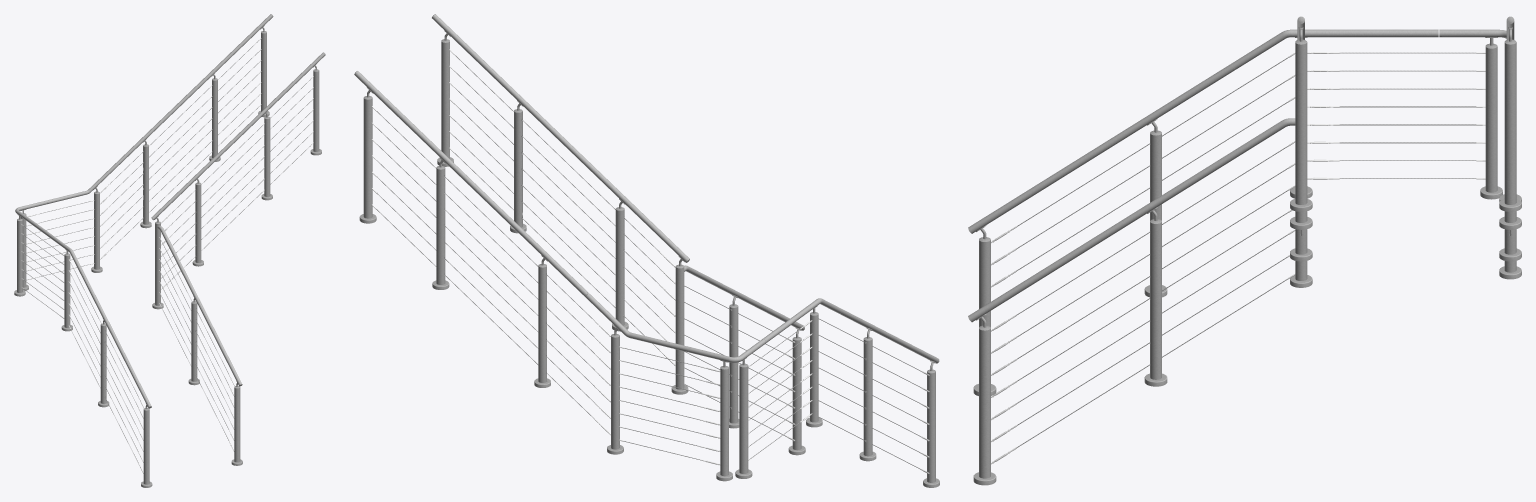
Rendered from L-Shaped_Railing_Koto_Round.gltf.
3 views of the same model, side by side, from view 1: azimuth 30°, elevation 25°; view 2: azimuth 150°, elevation 25°; view 3: azimuth 270°, elevation 25° (orthographic). The views are drawn at different scales.
Visible parts, largest first — view 1: Nested_Rail LS Material [8461322], Nested_Rail LS Material [8719226], Nested_Bend Bend [8719267]001, Nested_Rail LS Material [8719249], Custom - Koto Round Post Material LS Material [8467853], Custom - Koto Round Post Material LS Material [8579826]002, Custom - Koto Round Post Material LS Material [8467835]002, Custom - Koto Round Post Material LS Material [8579826]003, Custom - Koto Round Post Material LS Material [8467835]001, Custom - Koto Round Post Material LS Material [8581377], Custom - Koto Round Post Material LS Material [8467844], Custom - Koto Round Post Material LS Material [8581380]006 (+7 smaller); view 2: Nested_Rail LS Material [8461322], Nested_Rail LS Material [8719226], Custom - Koto Round Post Material LS Material [8467853]001, Custom - Koto Round Post Material LS Material [8467990], Custom - Koto Round Post Material LS Material [8467835]002, Custom - Koto Round Post Material LS Material [8579826]001, Custom - Koto Round Post Material LS Material [8579826]003, Custom - Koto Round Post Material LS Material [8467835]001, Custom - Koto Round Post Material LS Material [8580439]008, Custom - Koto Round Post Material LS Material [8467844], Custom - Koto Round Post Material LS Material [8579826], Custom - Koto Round Post Material LS Material [8579826]002 (+8 smaller); view 3: Nested_Bend Bend [8719267]001, Nested_Rail LS Material [8719249], Custom - Koto Round Post Material LS Material [8467853], Custom - Koto Round Post Material LS Material [8467853]001, Custom - Koto Round Post Material LS Material [8580439]008, Custom - Koto Round Post Material LS Material [8467835]001, Nested_Bend Bend [8719267], Custom - Koto Round Post Material LS Material [8467844], Custom - Koto Round Post Material LS Material [8581377], Custom - Koto Round Post Material LS Material [8467835]002, Nested_Bend Bend_1.
Part boxes in pixels (bbox=[...]): Nested_Rail LS Material [8461322]: bbox=[151, 52, 325, 219]; Nested_Rail LS Material [8719226]: bbox=[115, 14, 272, 165]; Nested_Bend Bend [8719267]001: bbox=[157, 225, 241, 385]; Nested_Rail LS Material [8719249]: bbox=[83, 276, 151, 407]; Custom - Koto Round Post Material LS Material [8467853]: bbox=[313, 71, 319, 151]; Custom - Koto Round Post Material LS Material [8579826]002: bbox=[264, 118, 270, 196]; Custom - Koto Round Post Material LS Material [8467835]002: bbox=[100, 325, 106, 403]; Custom - Koto Round Post Material LS Material [8579826]003: bbox=[195, 184, 201, 262]; Custom - Koto Round Post Material LS Material [8467835]001: bbox=[191, 303, 197, 381]; Custom - Koto Round Post Material LS Material [8581377]: bbox=[143, 410, 149, 484]; Custom - Koto Round Post Material LS Material [8467844]: bbox=[234, 388, 240, 462]; Custom - Koto Round Post Material LS Material [8581380]006: bbox=[64, 255, 70, 327]; Nested_Rail LS Material [8461322]: bbox=[432, 14, 689, 262]; Nested_Rail LS Material [8719226]: bbox=[354, 71, 587, 295]; Custom - Koto Round Post Material LS Material [8467853]001: bbox=[363, 98, 372, 218]; Custom - Koto Round Post Material LS Material [8467990]: bbox=[675, 267, 684, 389]; Custom - Koto Round Post Material LS Material [8467835]002: bbox=[863, 339, 872, 456]; Custom - Koto Round Post Material LS Material [8579826]001: bbox=[436, 168, 445, 284]; Custom - Koto Round Post Material LS Material [8579826]003: bbox=[615, 210, 624, 325]; Custom - Koto Round Post Material LS Material [8467835]001: bbox=[729, 307, 738, 423]; Custom - Koto Round Post Material LS Material [8580439]008: bbox=[739, 366, 748, 473]; Custom - Koto Round Post Material LS Material [8467844]: bbox=[792, 339, 801, 450]; Custom - Koto Round Post Material LS Material [8579826]: bbox=[538, 267, 546, 382]; Custom - Koto Round Post Material LS Material [8579826]002: bbox=[514, 111, 522, 227]; Nested_Bend Bend [8719267]001: bbox=[968, 118, 1295, 321]; Nested_Rail LS Material [8719249]: bbox=[968, 64, 1234, 233]; Custom - Koto Round Post Material LS Material [8467853]: bbox=[1295, 43, 1307, 204]; Custom - Koto Round Post Material LS Material [8467853]001: bbox=[1504, 43, 1516, 204]; Custom - Koto Round Post Material LS Material [8580439]008: bbox=[1485, 47, 1497, 192]; Custom - Koto Round Post Material LS Material [8467835]001: bbox=[1150, 222, 1161, 379]; Nested_Bend Bend [8719267]: bbox=[1232, 29, 1437, 69]; Custom - Koto Round Post Material LS Material [8467844]: bbox=[979, 329, 990, 478]; Custom - Koto Round Post Material LS Material [8581377]: bbox=[979, 240, 990, 327]; Custom - Koto Round Post Material LS Material [8467835]002: bbox=[1150, 134, 1161, 220]; Nested_Bend Bend_1: bbox=[1439, 29, 1506, 38].
Size of the model in its own units: 3.06 by 3.48 by 2.79.
